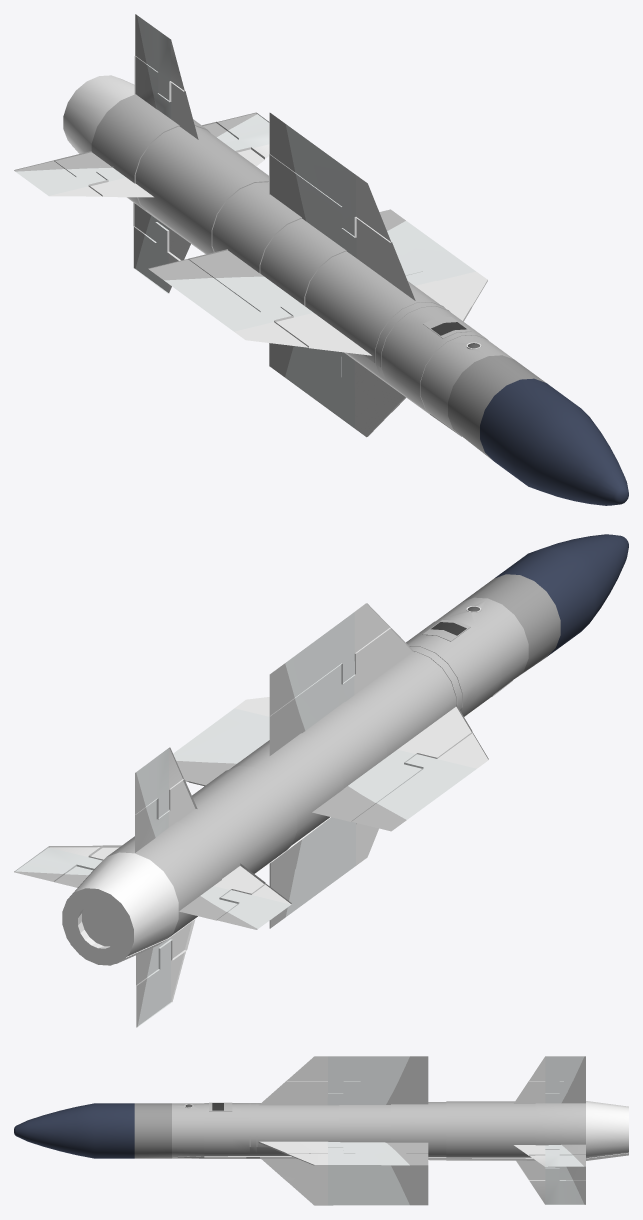
Rendered from daodan.gltf.
3 views of the same model, one above another, from view 1: azimuth 30°, elevation 25°; view 2: azimuth 150°, elevation 25°; view 3: azimuth 270°, elevation 25° (orthographic). The views are drawn at different scales.
Visible parts, largest first — view 1: Cylinder001, ____001, ____007, ____003, ____008, ____002, ____006, ____004, ____005; view 2: Cylinder001, ____001, ____007, ____003, ____008, ____002, ____006, ____004, ____005; view 3: Cylinder001, ____001, ____003, ____008, ____002, ____004, ____005.
Part boxes in pixels (x1=…): Cylinder001: x1=63, y1=75, x2=628, y2=505; ____001: x1=269, y1=112, x2=415, y2=300; ____007: x1=148, y1=249, x2=371, y2=355; ____003: x1=269, y1=343, x2=405, y2=437; ____008: x1=379, y1=209, x2=487, y2=321; ____002: x1=134, y1=14, x2=198, y2=139; ____006: x1=14, y1=151, x2=153, y2=197; ____004: x1=133, y1=202, x2=190, y2=293; ____005: x1=202, y1=112, x2=269, y2=166; Cylinder001: x1=62, y1=534, x2=628, y2=965; ____001: x1=269, y1=603, x2=414, y2=755; ____007: x1=312, y1=704, x2=488, y2=831; ____003: x1=269, y1=817, x2=378, y2=928; ____008: x1=173, y1=697, x2=269, y2=786; ____002: x1=135, y1=747, x2=197, y2=852; ____006: x1=179, y1=863, x2=291, y2=929; ____004: x1=136, y1=919, x2=195, y2=1027; ____005: x1=14, y1=845, x2=121, y2=887; Cylinder001: x1=14, y1=1101, x2=628, y2=1160; ____001: x1=259, y1=1056, x2=428, y2=1105; ____003: x1=261, y1=1159, x2=428, y2=1205; ____008: x1=258, y1=1141, x2=428, y2=1165; ____002: x1=514, y1=1056, x2=585, y2=1103; ____004: x1=516, y1=1160, x2=585, y2=1204; ____005: x1=514, y1=1144, x2=585, y2=1166.
Size of the model in its own units: 1.94 by 1.94 by 7.28.
